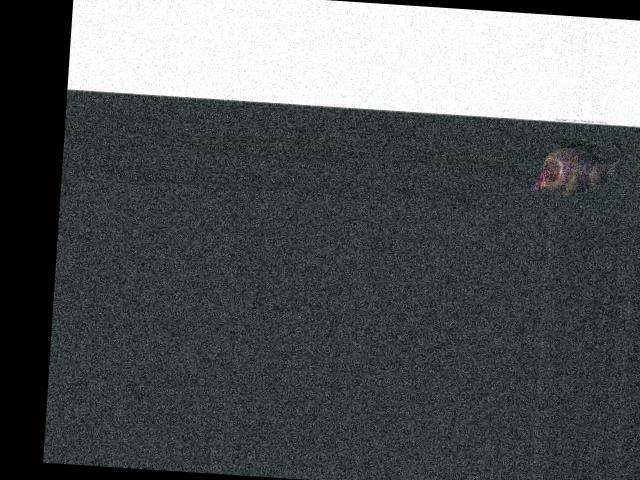beet: (530, 135, 622, 198)
